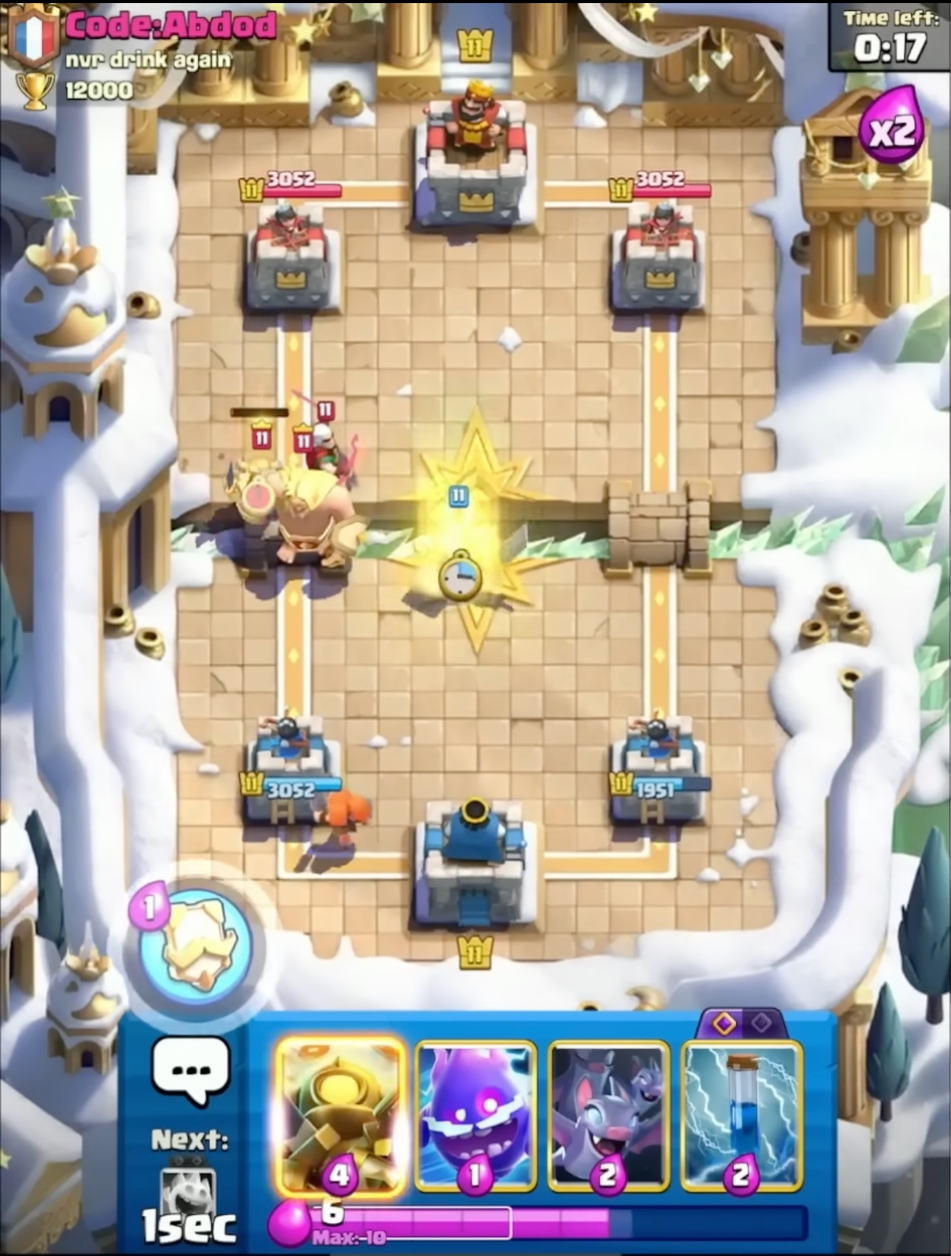hero-giant: (246, 418, 367, 587)
hero-mini-pekka: (218, 400, 284, 513)
magic-archer: (298, 392, 365, 496)
